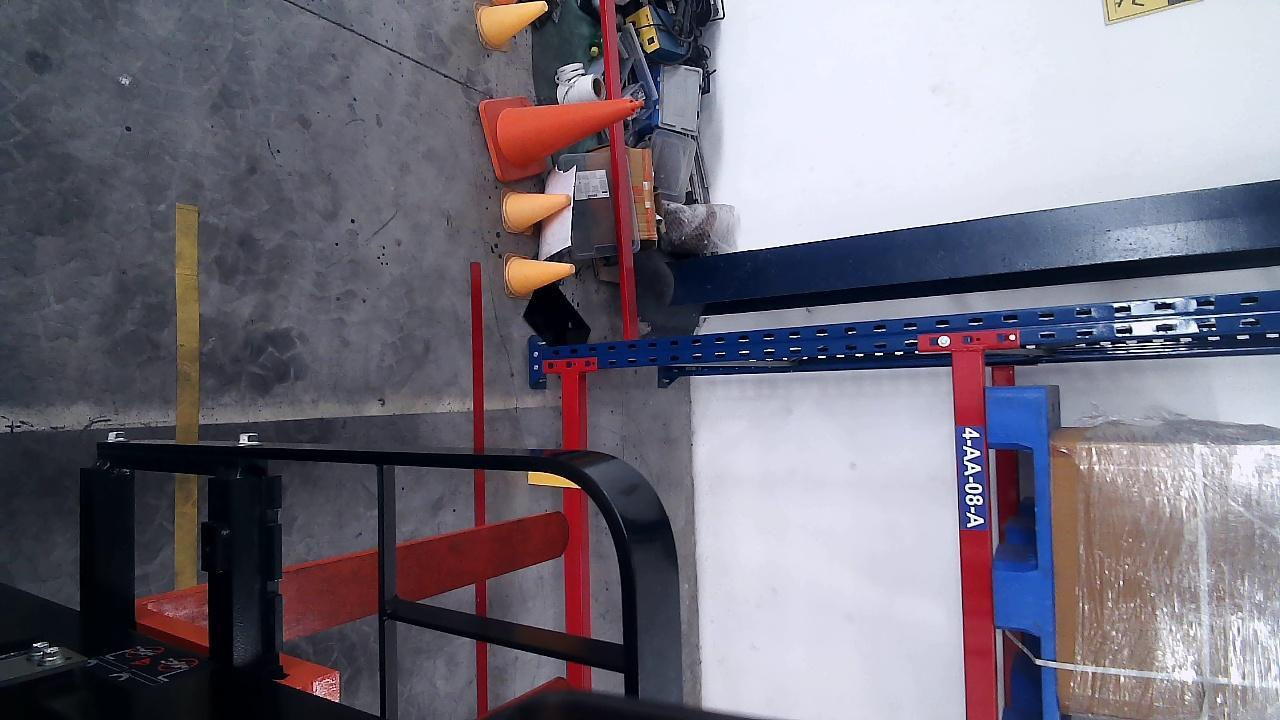h_rack: (950, 347, 1000, 718), (563, 374, 586, 687)
red_line: (470, 260, 490, 720)
small_pallet: (989, 391, 1055, 719)
yellow_line: (178, 201, 200, 442)
